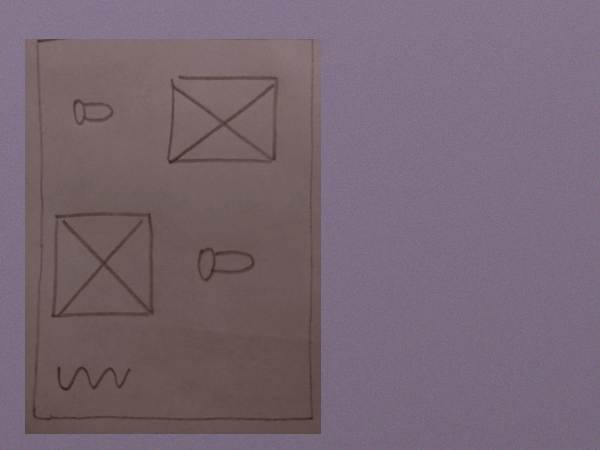image: (46, 205, 161, 323), (162, 69, 282, 172)
switch: (191, 243, 261, 286), (65, 94, 115, 127)
text: (51, 360, 132, 396)
